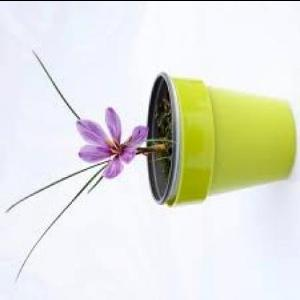Saffron: (76, 106, 149, 178)
